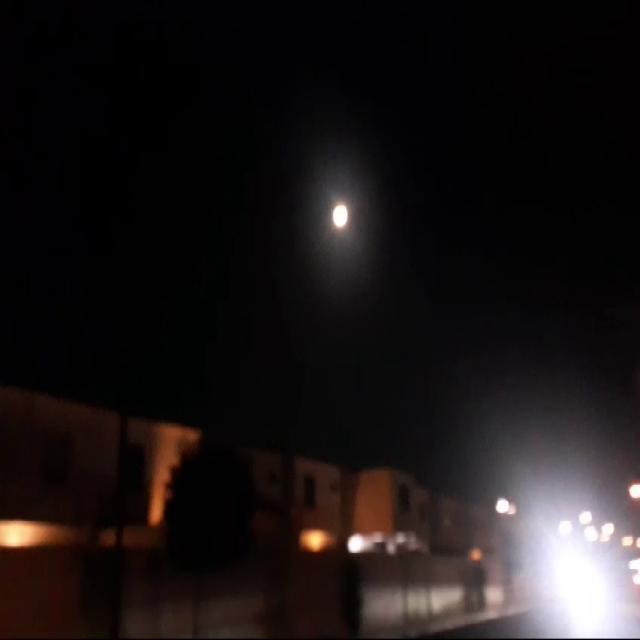moon: (354, 192, 373, 226)
